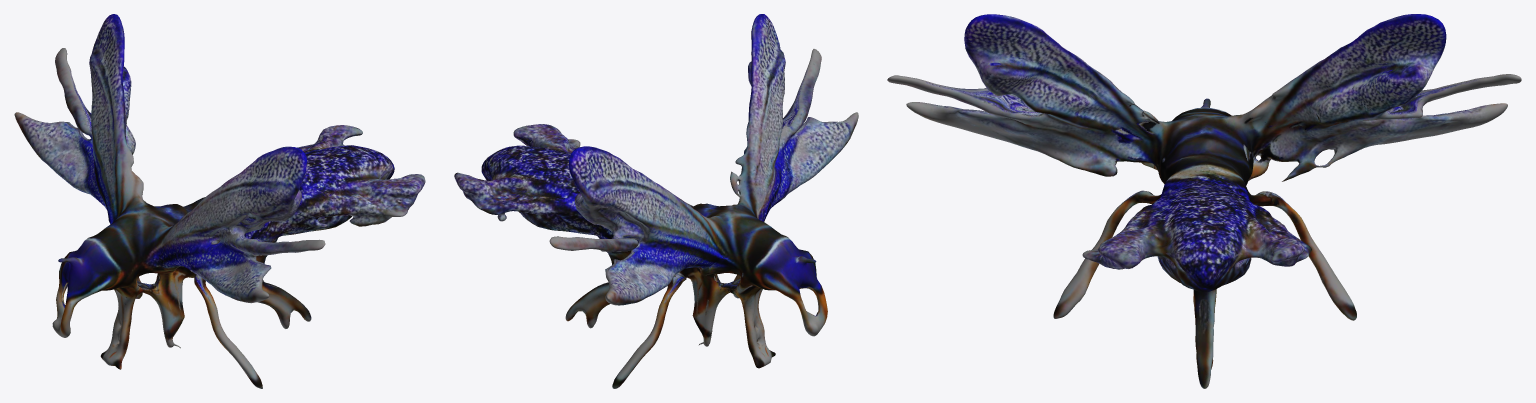
File: 824e032648f8_una_avispa_min.fbx
3 views of the same model, side by side, from view 1: azimuth 30°, elevation 25°; view 2: azimuth 150°, elevation 25°; view 3: azimuth 270°, elevation 25° (orthographic). The views are drawn at different scales.
Visible parts, largest first — view 1: mesh; view 2: mesh; view 3: mesh.
Part boxes in pixels (box(x1,y1,x2,y2)): mesh: box(14, 14, 425, 388); mesh: box(454, 14, 858, 388); mesh: box(887, 14, 1521, 388).
Size of the model in its own units: 73.24 by 54.86 by 99.36.
